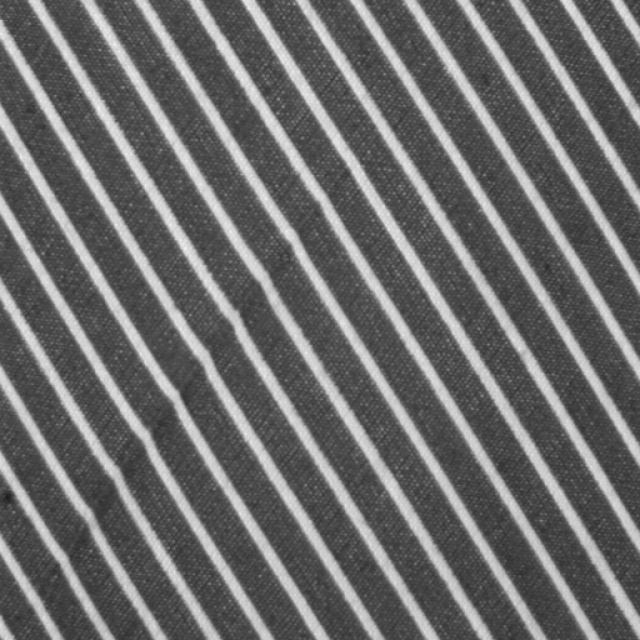Thread-Defect: (24, 158, 359, 621)
